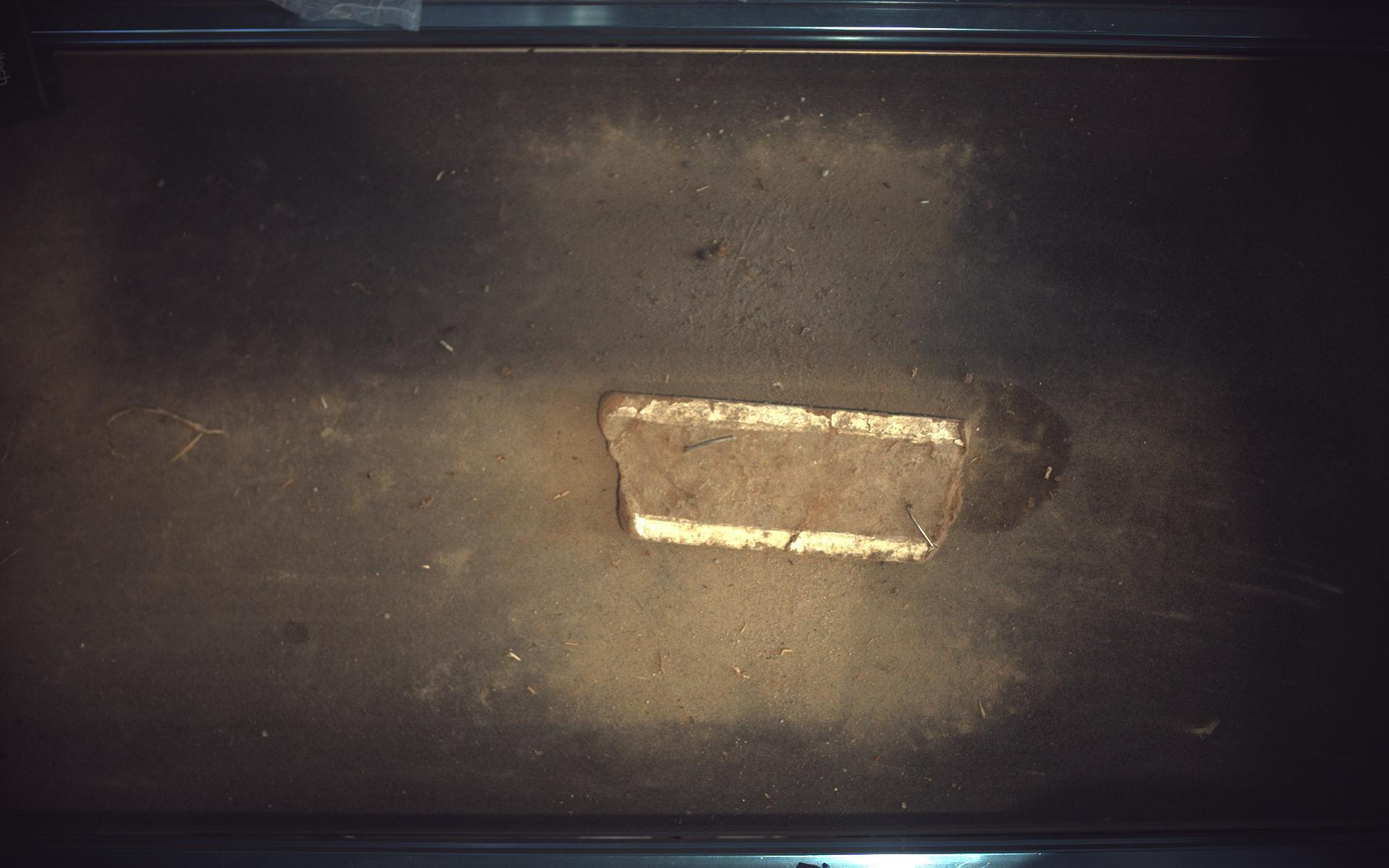wood: (600, 392, 969, 562)
